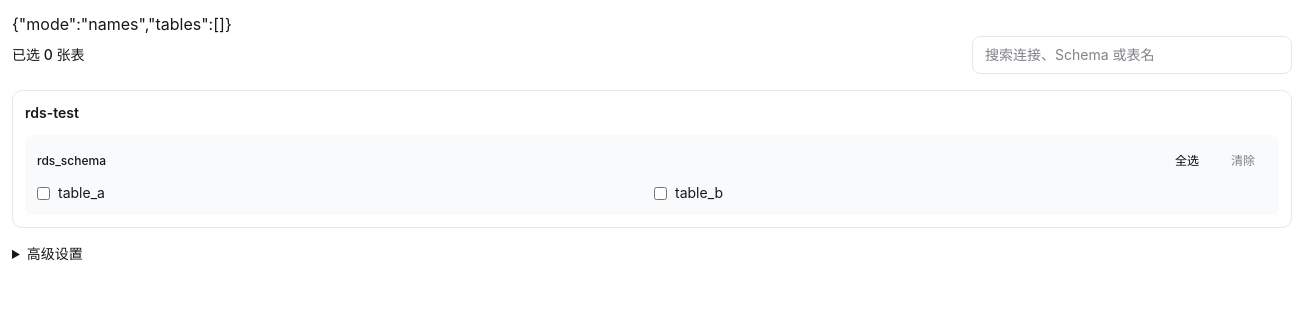
Scenario: RoleTableGrants › renders connection/schema/table tree and derives a selected summary
Check: the heading "rds-test" is shown, box [25,104,79,121]
Check: the text "rds_schema" is shown, box [37,153,106,169]
Click the checkbox labelled "table_a" at (44, 193), box [37,186,50,200]
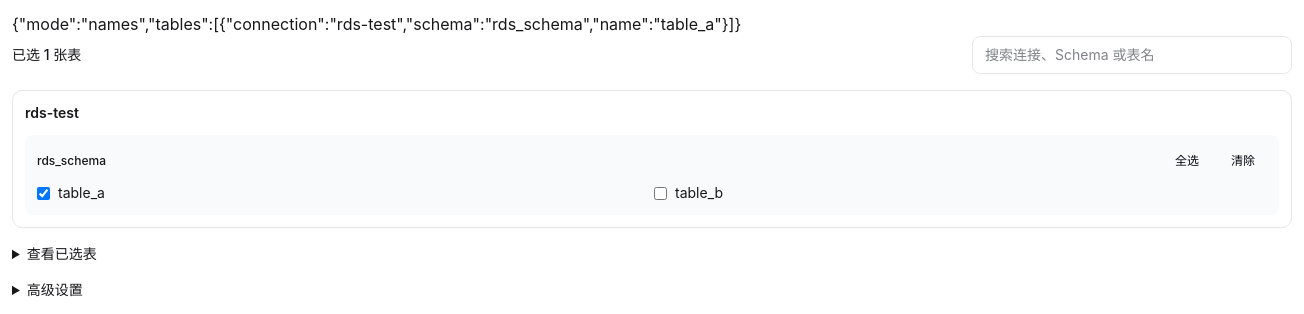
Check: the text "已选 1 张表" is shown, box [12,45,81,65]
Check: the text with test id "scope-value" shows "\"name\":\"table_a\"", box [12,14,741,34]
